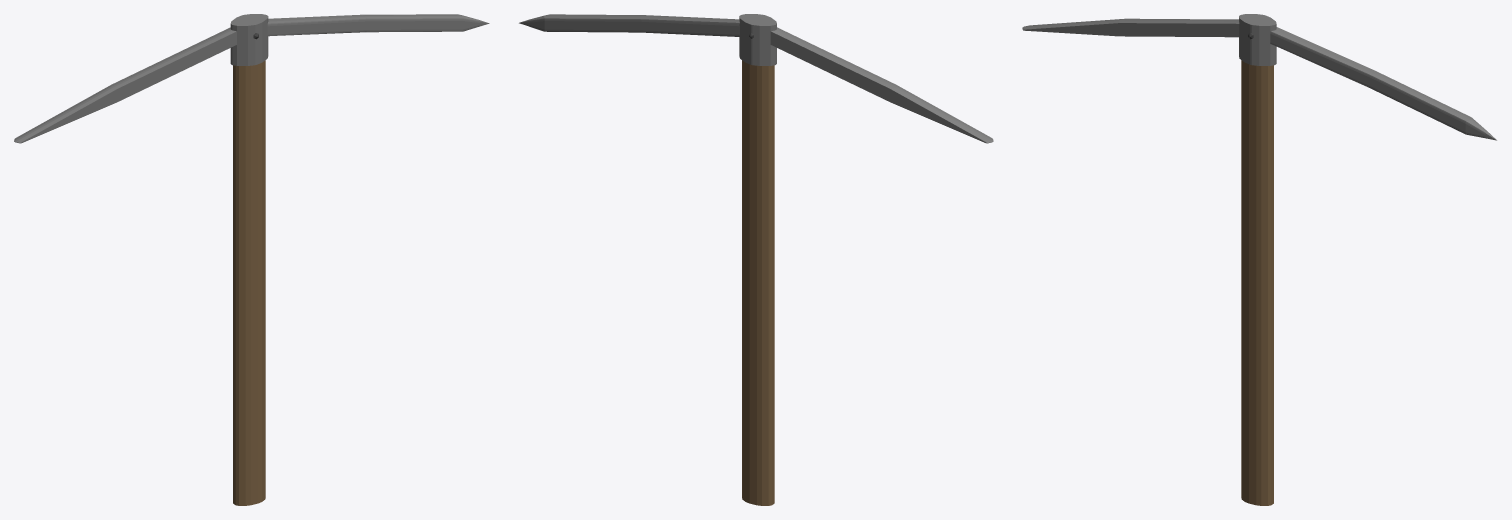
The model's file is Pickaxe.fbx.
3 renders of one model, left to right at view 1: azimuth 30°, elevation 25°; view 2: azimuth 150°, elevation 25°; view 3: azimuth 330°, elevation 25°, orthographic.
Parts seen in each view (by area): view 1: Cylinder; view 2: Cylinder; view 3: Cylinder.
Boxes of the visible parts, left/top/right/bottom form: Cylinder: left=14, top=14, right=489, bottom=505; Cylinder: left=519, top=14, right=993, bottom=505; Cylinder: left=1022, top=14, right=1496, bottom=505.
Bounding box in the file's own units: 607 × 587 × 35.05.
